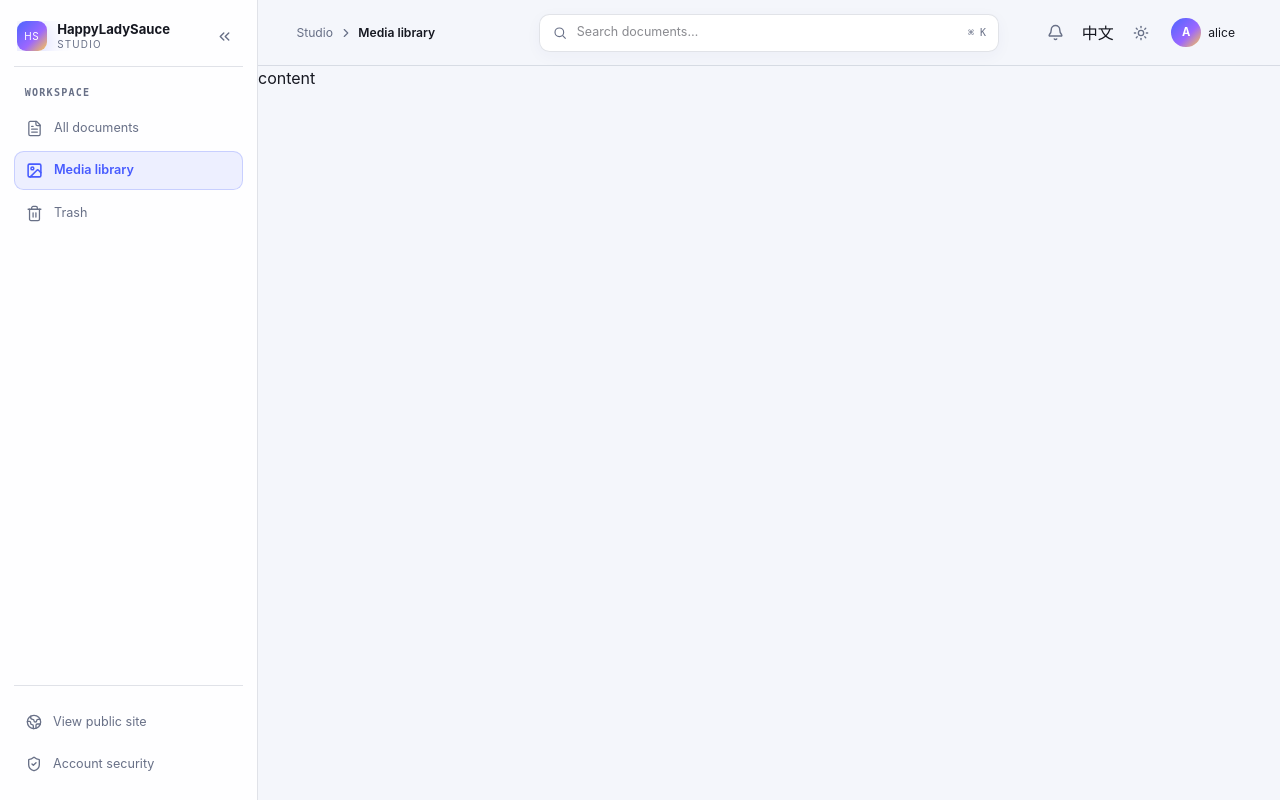
it: BackendShell › keeps public navigation out of the backend and exposes the active module
Expected: the text "alice" is shown, x1=1208 y1=24 x2=1235 y2=42
Step 1. Click the button named "Notifications" → [1055, 33], box x1=1038 y1=15 x2=1073 y2=50
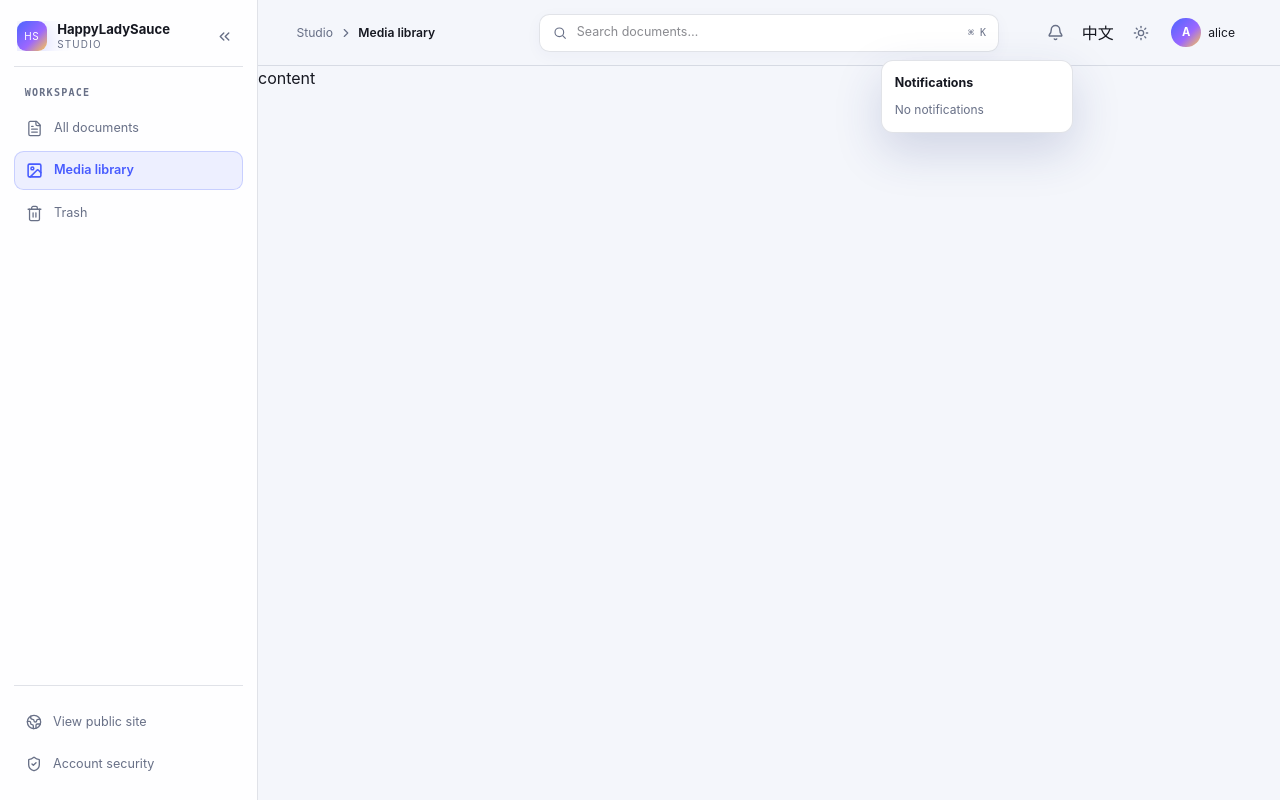
Expected: the text "No notifications" is shown, x1=895 y1=102 x2=984 y2=117
